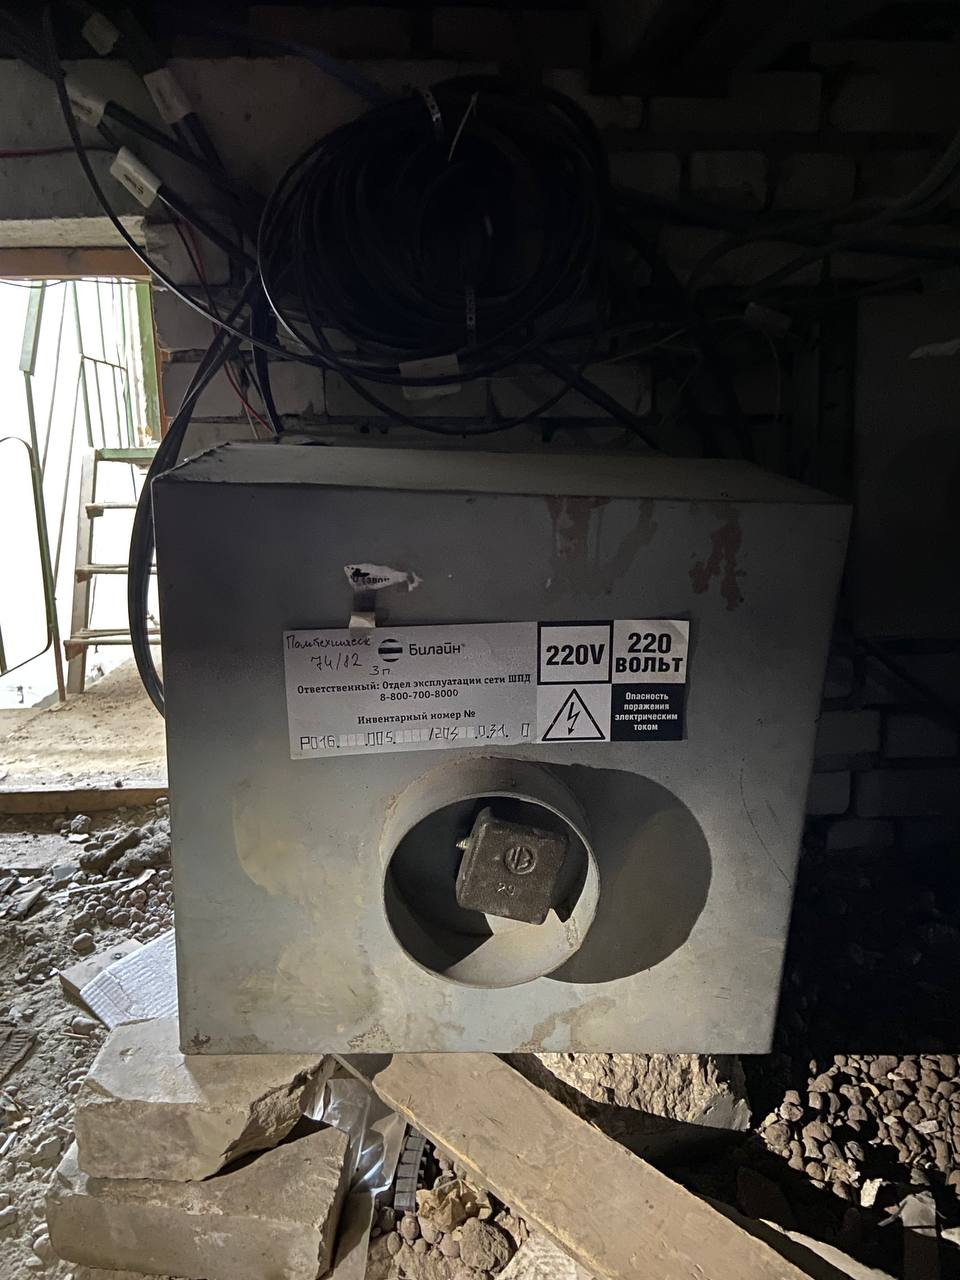shta-9: (139, 406, 868, 1072)
